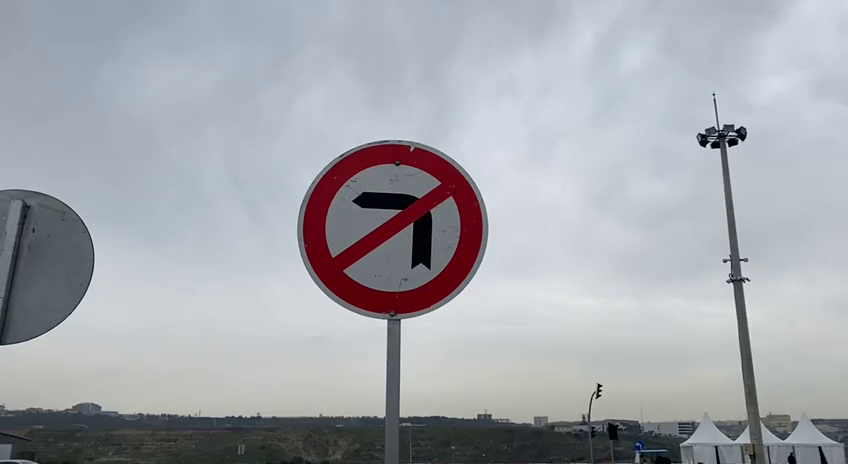noTurnLeft: (297, 139, 493, 323)
